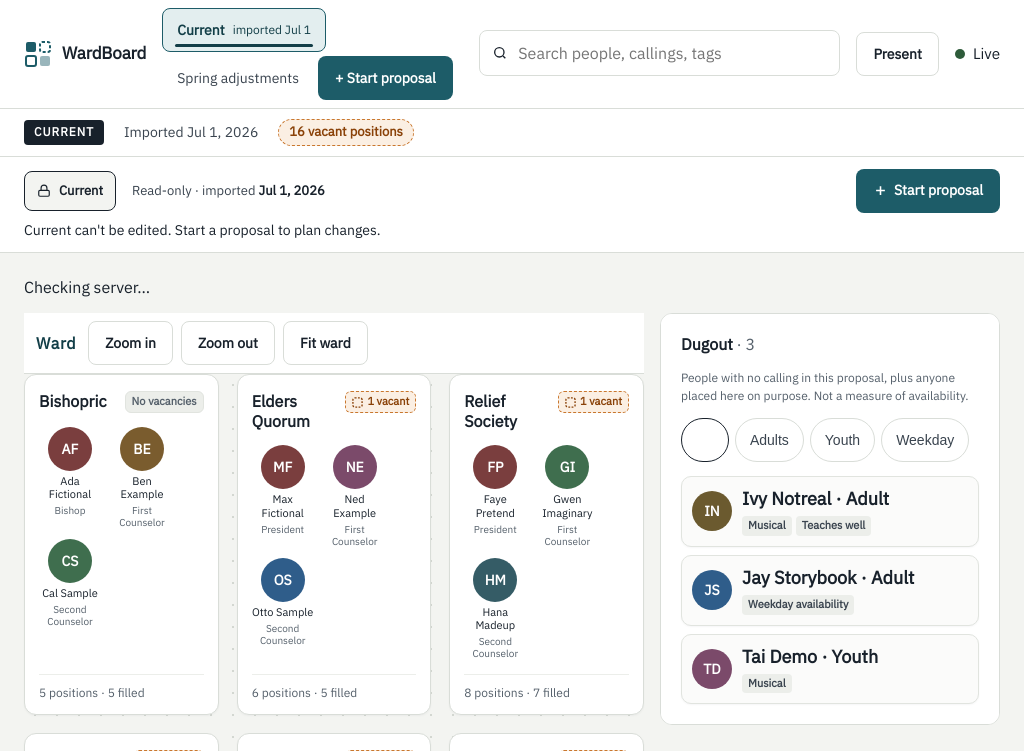
Test: person-panel › double-click opens notes; save sends updateMember with the trimmed note
Step 1. Click the tab "Spring adjustments" → (238, 78), box [162,56,314,100]
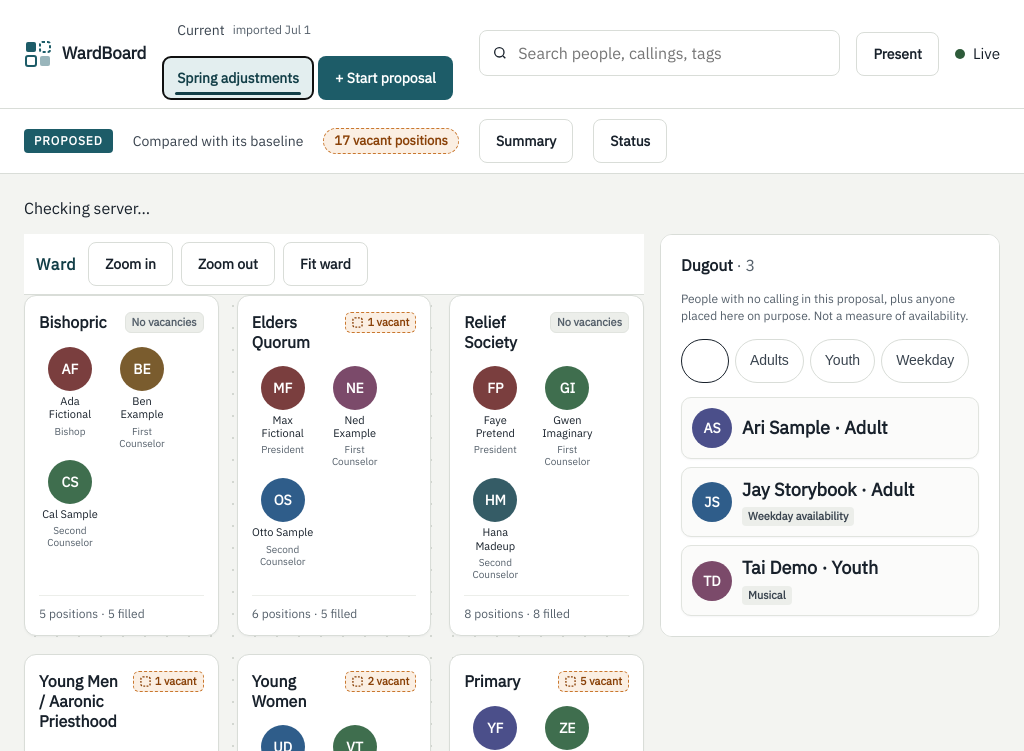
Step 2. Double-click the element "Relief Society" → (547, 465), box [449,295,644,636]
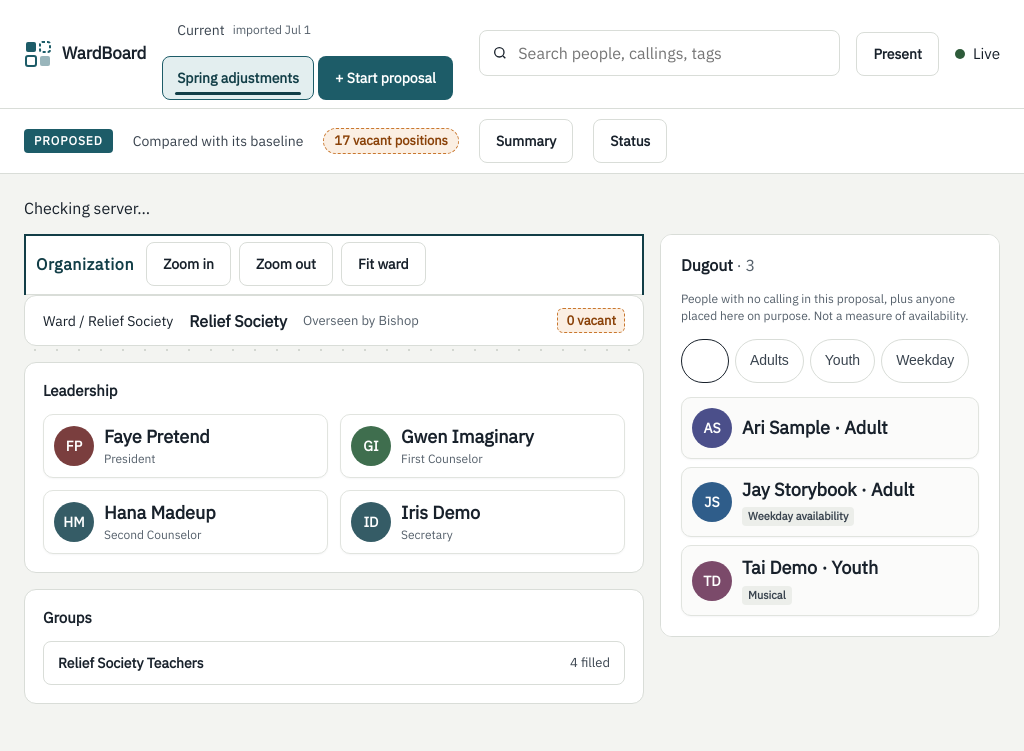
Step 3. Double-click the element named "Relief Society Teachers" → (334, 663), box [43,641,625,685]
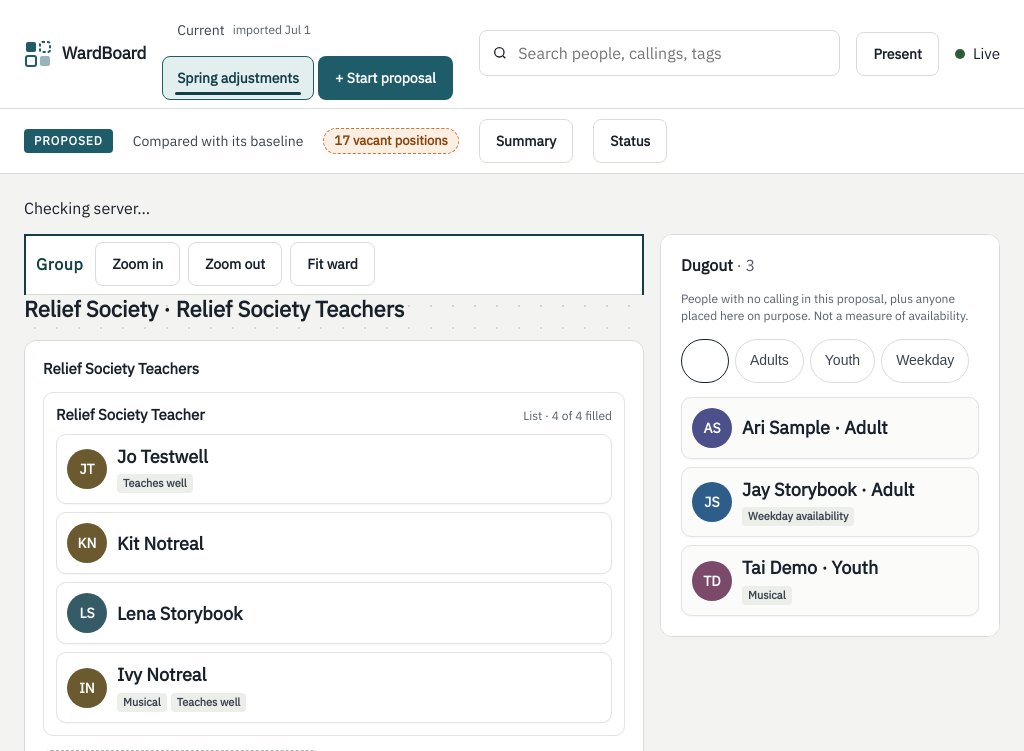
Step 4. Double-click the element showing "IN Ivy Notreal Musical Teaches well" → (334, 688), box [56,652,612,723]
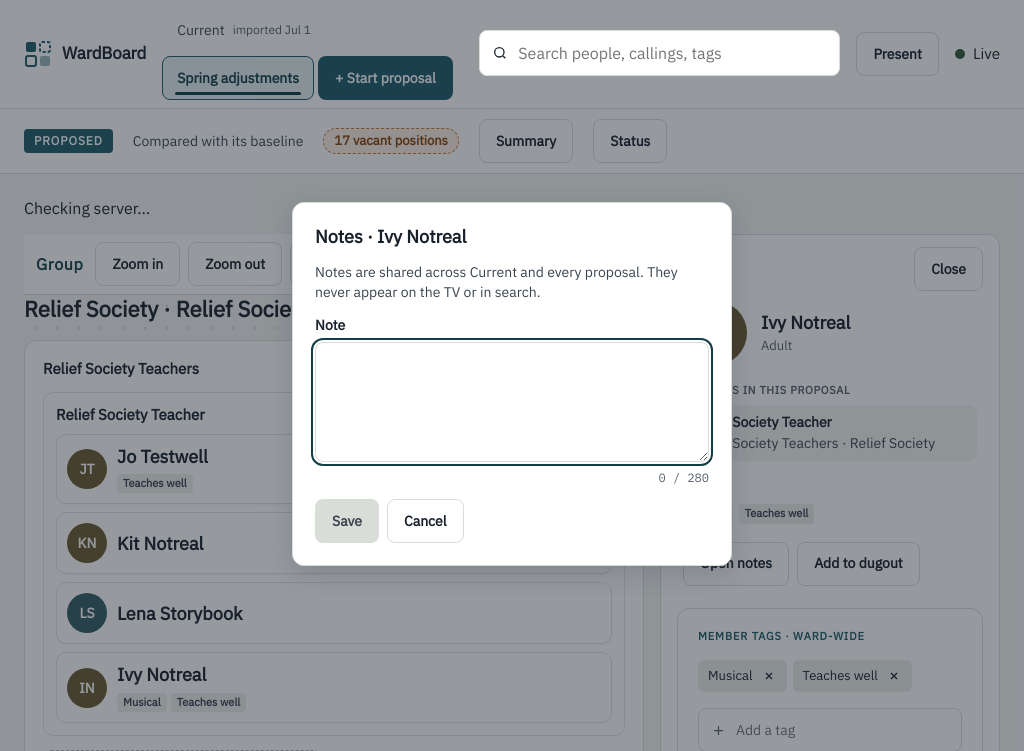
Check: the dialog "Notes · Ivy Notreal" is shown, box [292,202,732,566]
Step 5. Type "  Prefers mornings  " into the text box labelled "Note" → (512, 402), box [315,342,709,462]
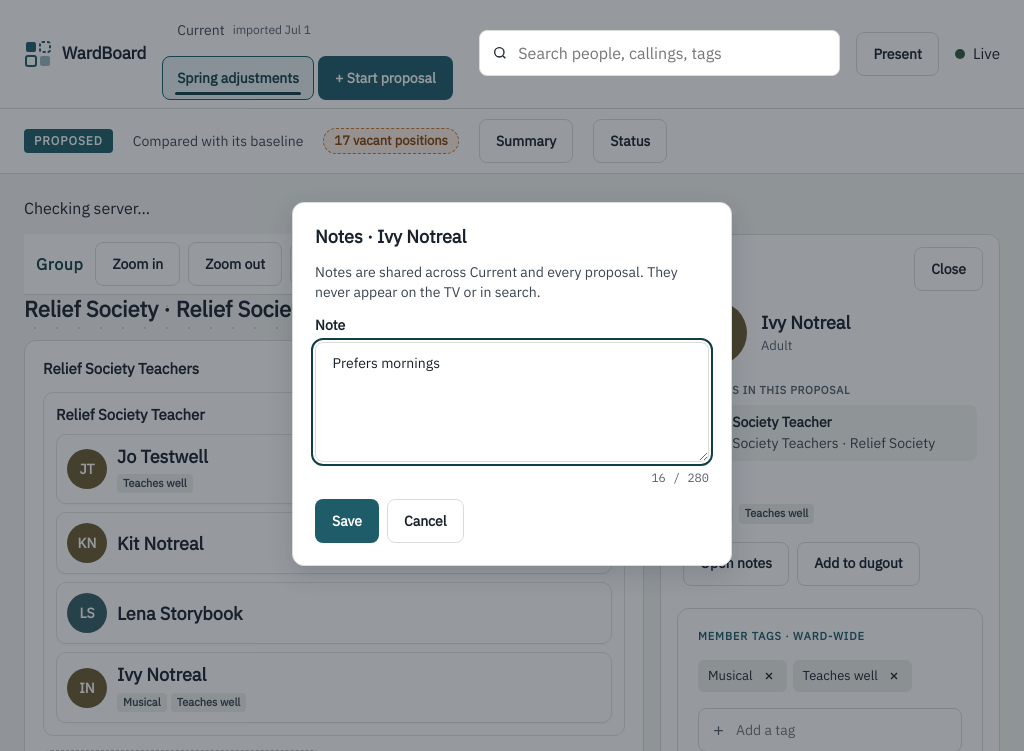
Step 6. Click the button "Save" → (347, 522), box [315,500,379,544]
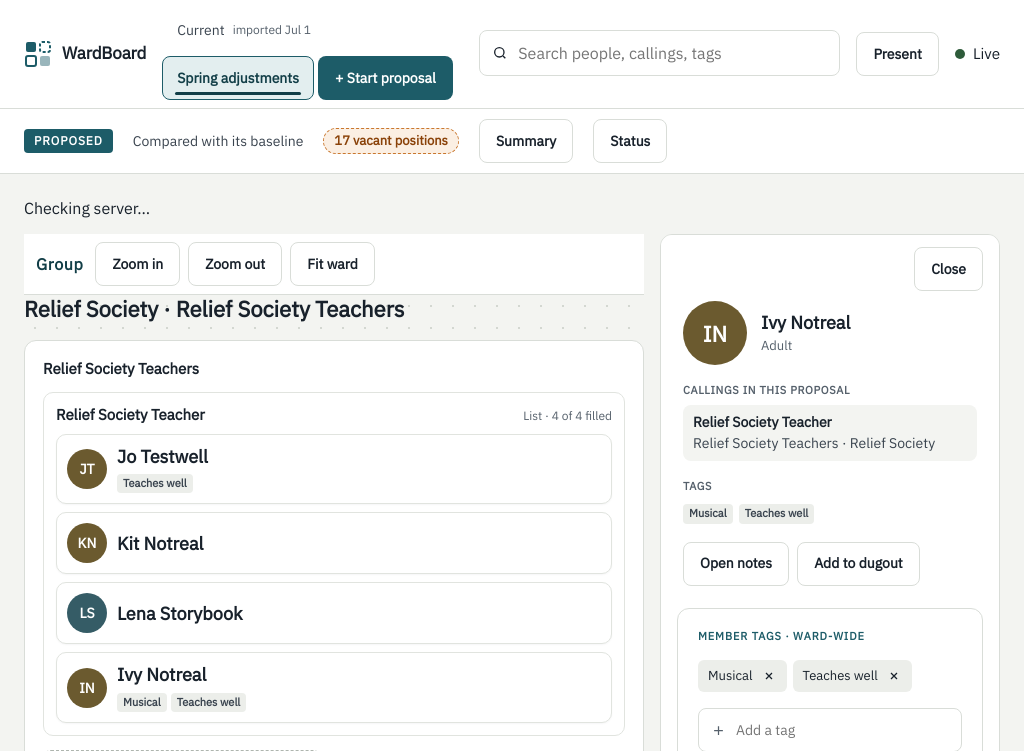
Check: the dialog is gone
